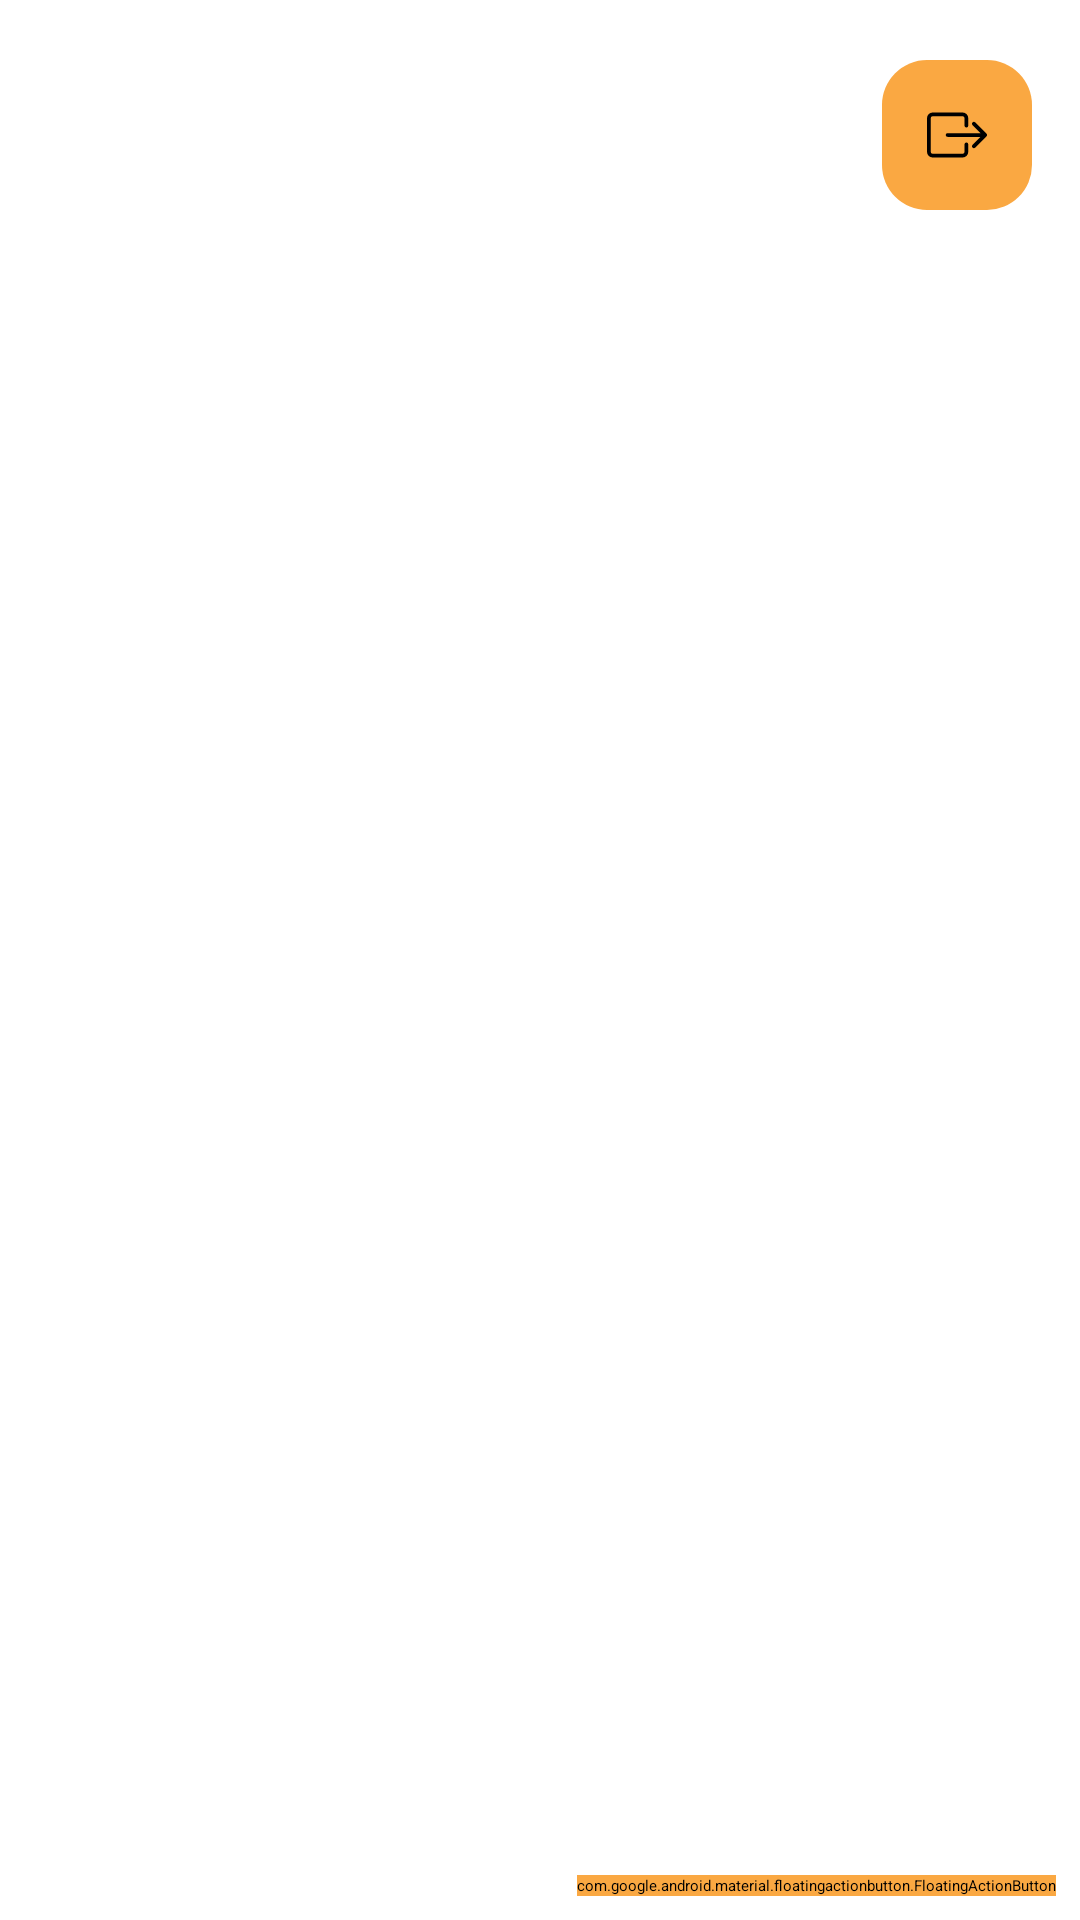

Where to tap for icons on this 1080x1920 app screen, as [x,y]:
box arrow right: [957,135]
